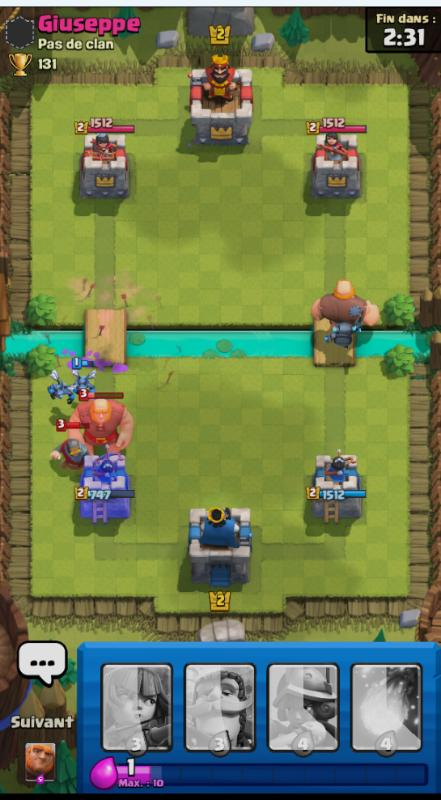chevalier: (43, 428, 102, 475)
gargouille: (63, 358, 103, 395), (38, 373, 75, 404)
geant: (302, 267, 396, 329), (58, 398, 139, 457)
mini_PEKKA: (324, 318, 377, 366)
